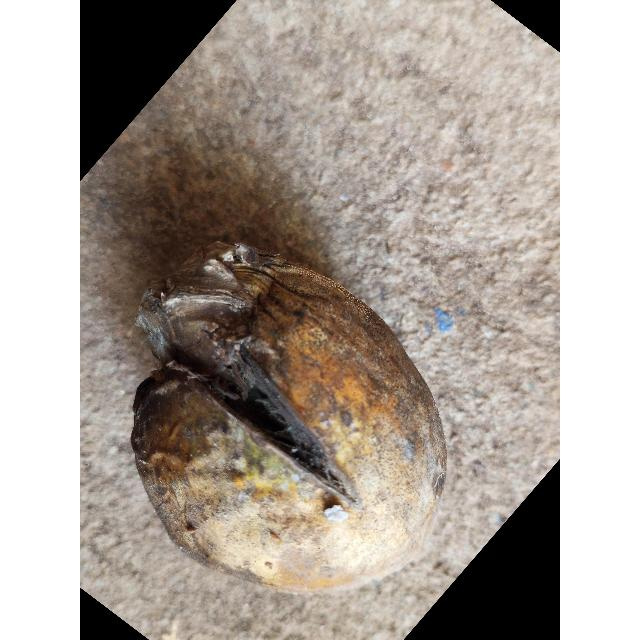damaged: (131, 258, 447, 594)
